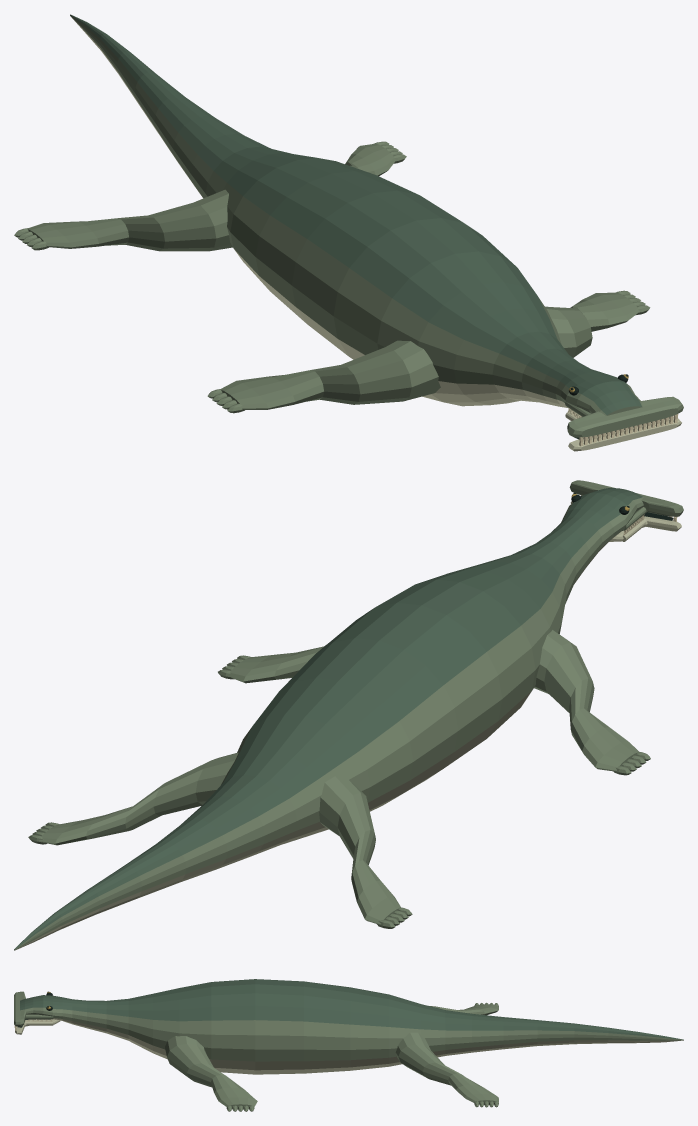
3 renders of one model, top to bottom at view 1: azimuth 30°, elevation 25°; view 2: azimuth 150°, elevation 25°; view 3: azimuth 270°, elevation 25°, orthographic. The views are drawn at different scales.
Visible parts, largest first — view 1: continuous-skull-neck-trunk-tail, left-forelimb, left-hindlimb, right-forelimb, upper-hammerjaw, right-hindlimb, lower-hammerjaw-and-rami, front-chisels-and-posterior-filter-mesh; view 2: continuous-skull-neck-trunk-tail, left-forelimb, left-hindlimb, right-hindlimb, right-forelimb, upper-hammerjaw; view 3: continuous-skull-neck-trunk-tail, right-forelimb, right-hindlimb, upper-hammerjaw, left-hindlimb, lower-hammerjaw-and-rami.
Boxes of the visible parts, x1,y1,x2,y2 form: continuous-skull-neck-trunk-tail: (70,14,642,415); left-forelimb: (207,340,440,413); left-hindlimb: (14,189,232,251); right-forelimb: (545,290,650,357); upper-hammerjaw: (565,396,683,437); right-hindlimb: (345,141,406,176); lower-hammerjaw-and-rami: (565,408,681,451); front-chisels-and-posterior-filter-mesh: (568,408,678,446); continuous-skull-neck-trunk-tail: (14,488,643,950); left-forelimb: (534,630,650,775); left-hindlimb: (319,776,412,928); right-hindlimb: (28,752,238,845); right-forelimb: (218,645,325,683); upper-hammerjaw: (569,480,683,530); continuous-skull-neck-trunk-tail: (20,979,683,1074); right-forelimb: (165,1036,257,1111); right-hindlimb: (395,1032,498,1107); upper-hammerjaw: (14,991,53,1026); left-hindlimb: (428,1002,498,1015); lower-hammerjaw-and-rami: (15,1019,60,1034).
Size of the model in its own units: 1.13 by 0.386 by 2.75.
